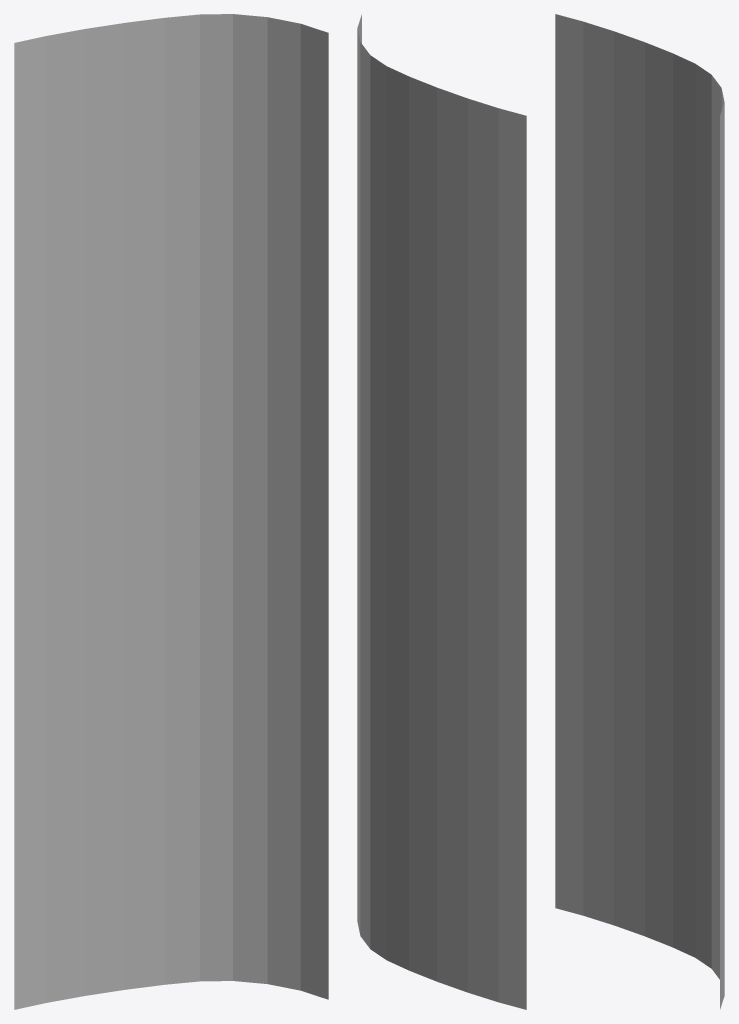
File: curva  2.fbx
3 views of the same model, side by side, from view 1: azimuth 30°, elevation 25°; view 2: azimuth 150°, elevation 25°; view 3: azimuth 330°, elevation 25° (orthographic). The views are drawn at different scales.
Visible parts, largest first — view 1: Paredes nivel 1.001; view 2: Paredes nivel 1.001; view 3: Paredes nivel 1.001.
Boxes of the visible parts, bbox=[...] form: Paredes nivel 1.001: bbox=[14, 14, 328, 1009]; Paredes nivel 1.001: bbox=[357, 14, 526, 1009]; Paredes nivel 1.001: bbox=[555, 14, 724, 1009].
Size of the model in its own units: 493 by 1850 by 237.
1 material, 1 textured.
